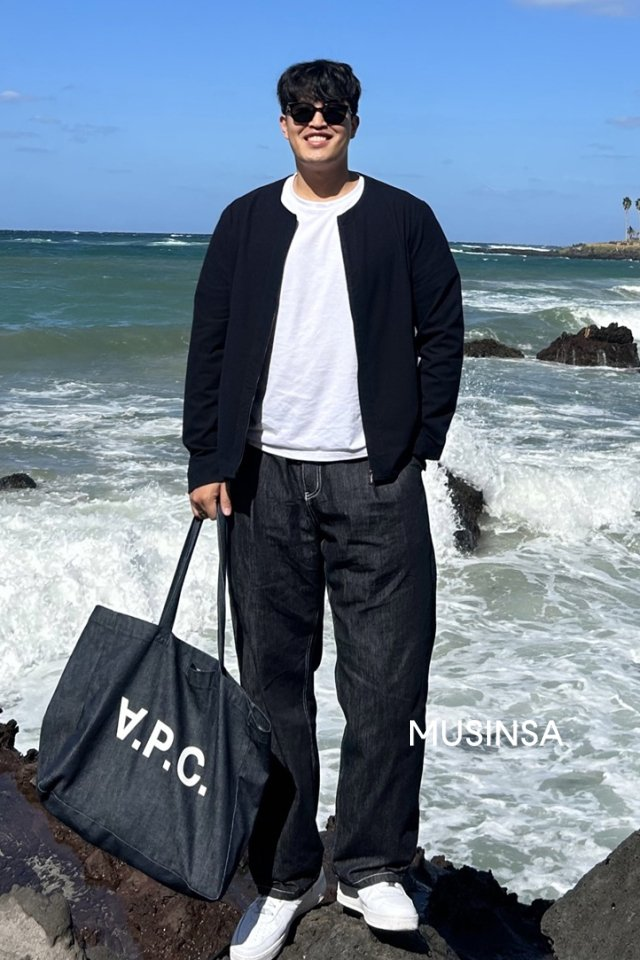Bag: (32, 492, 279, 901)
Glasses: (280, 104, 359, 123)
Jeans: (243, 453, 439, 898)
Outer: (177, 163, 466, 486)
Shoes: (219, 863, 434, 960)
